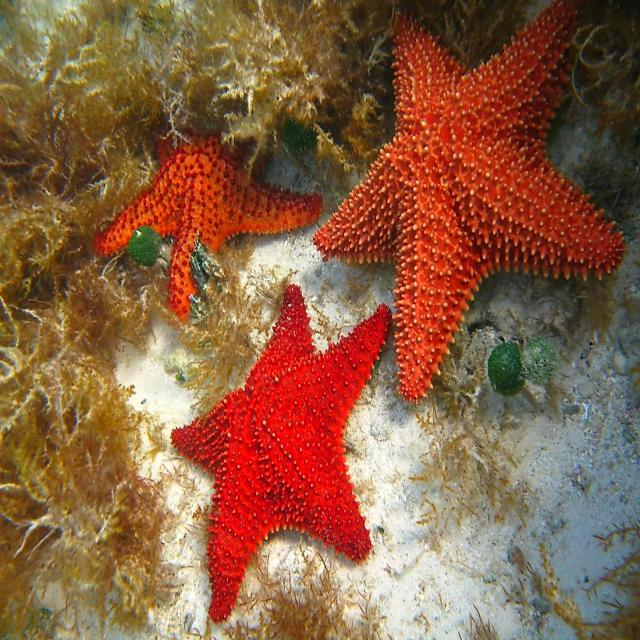starfish: (315, 0, 624, 400), (172, 285, 390, 619), (97, 137, 322, 319)
